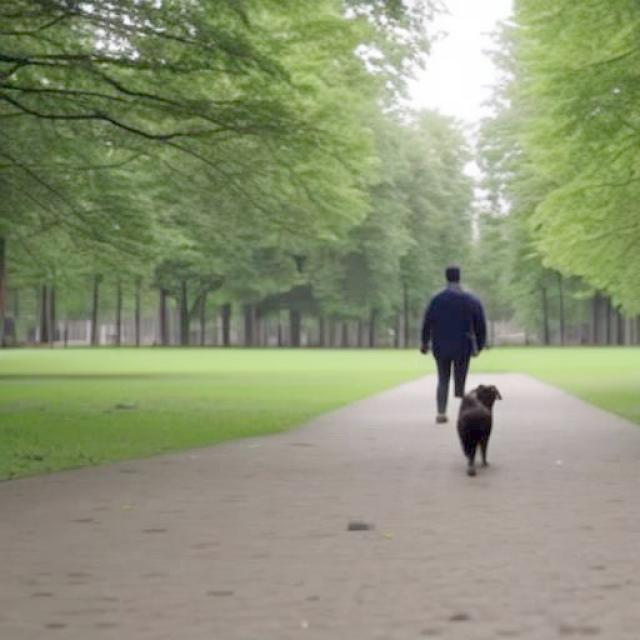Unleashed_Dog: (434, 353, 504, 477)
